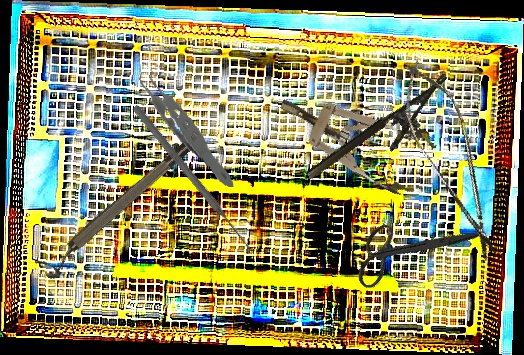Fixation Ring: (34, 132, 207, 283)
Iris Scissors: (340, 175, 487, 323)
Micro Scissor: (386, 52, 518, 269)
Needle Holder: (304, 73, 464, 199)
Pusher: (130, 103, 254, 252)
Speculum: (267, 70, 441, 202)
Tissue Forceps: (136, 48, 235, 197)
